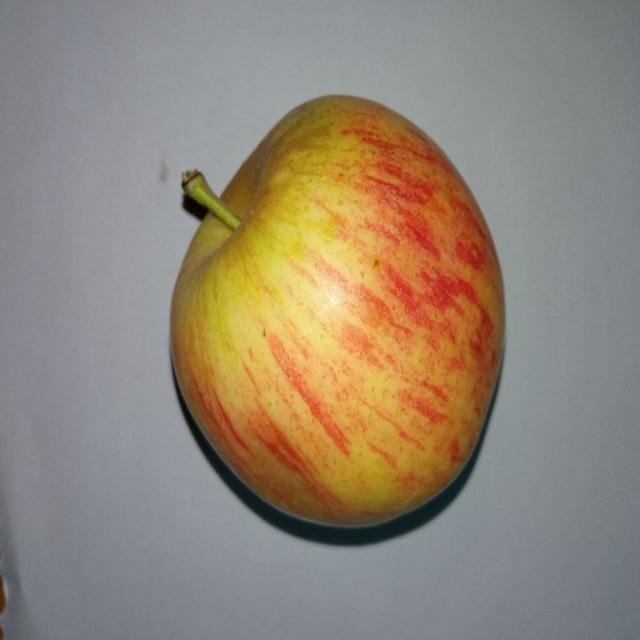fresh_apple: (166, 94, 504, 528)
